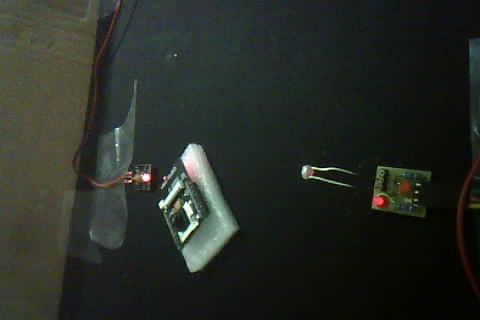esp32: (156, 148, 227, 256)
